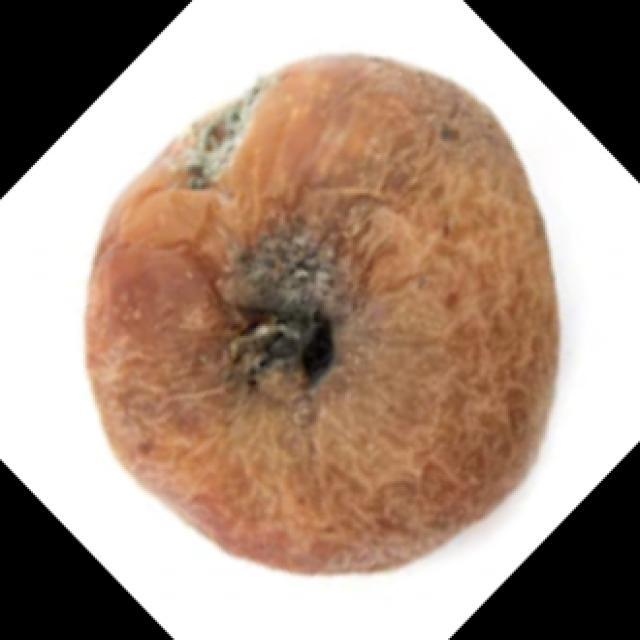Rotten: (90, 70, 565, 578)
